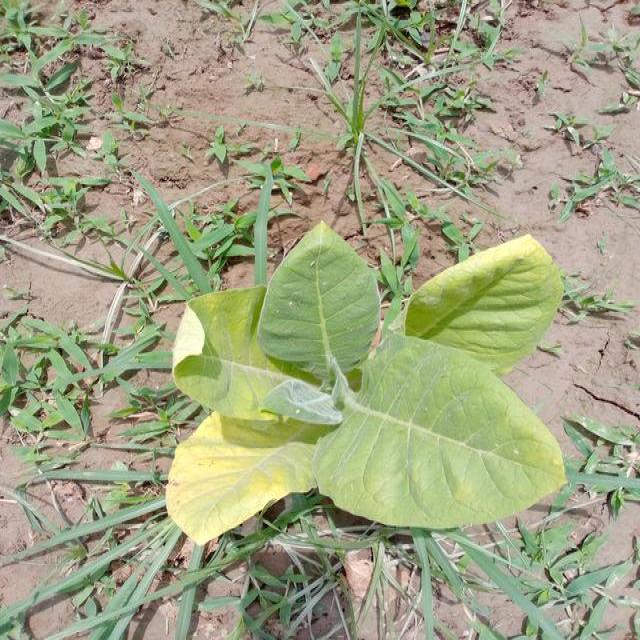crop: (160, 224, 578, 541)
